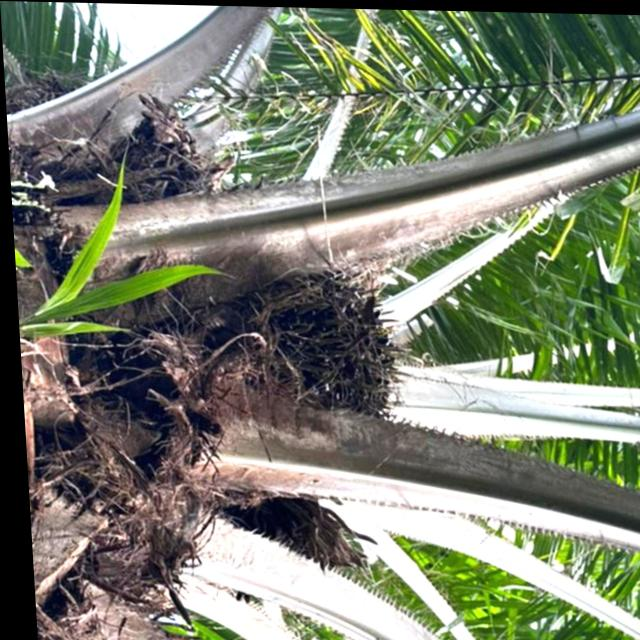unripe: (201, 246, 413, 436)
